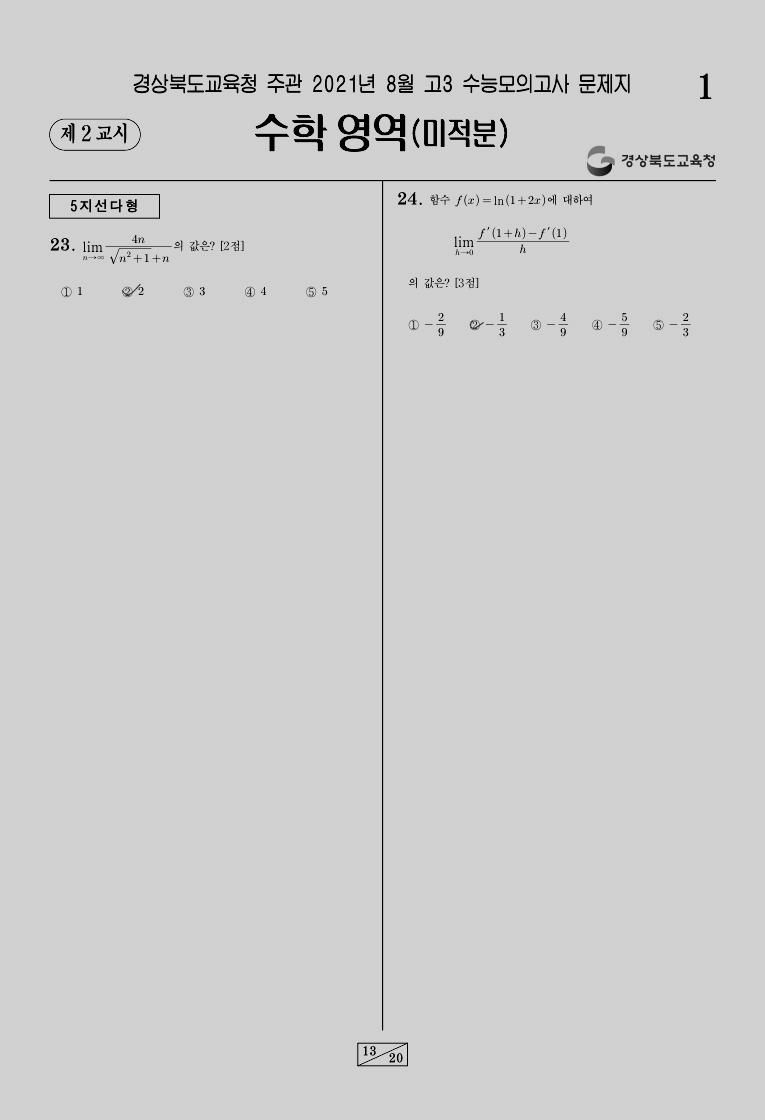question: (383, 183, 713, 357), (38, 225, 353, 321)
